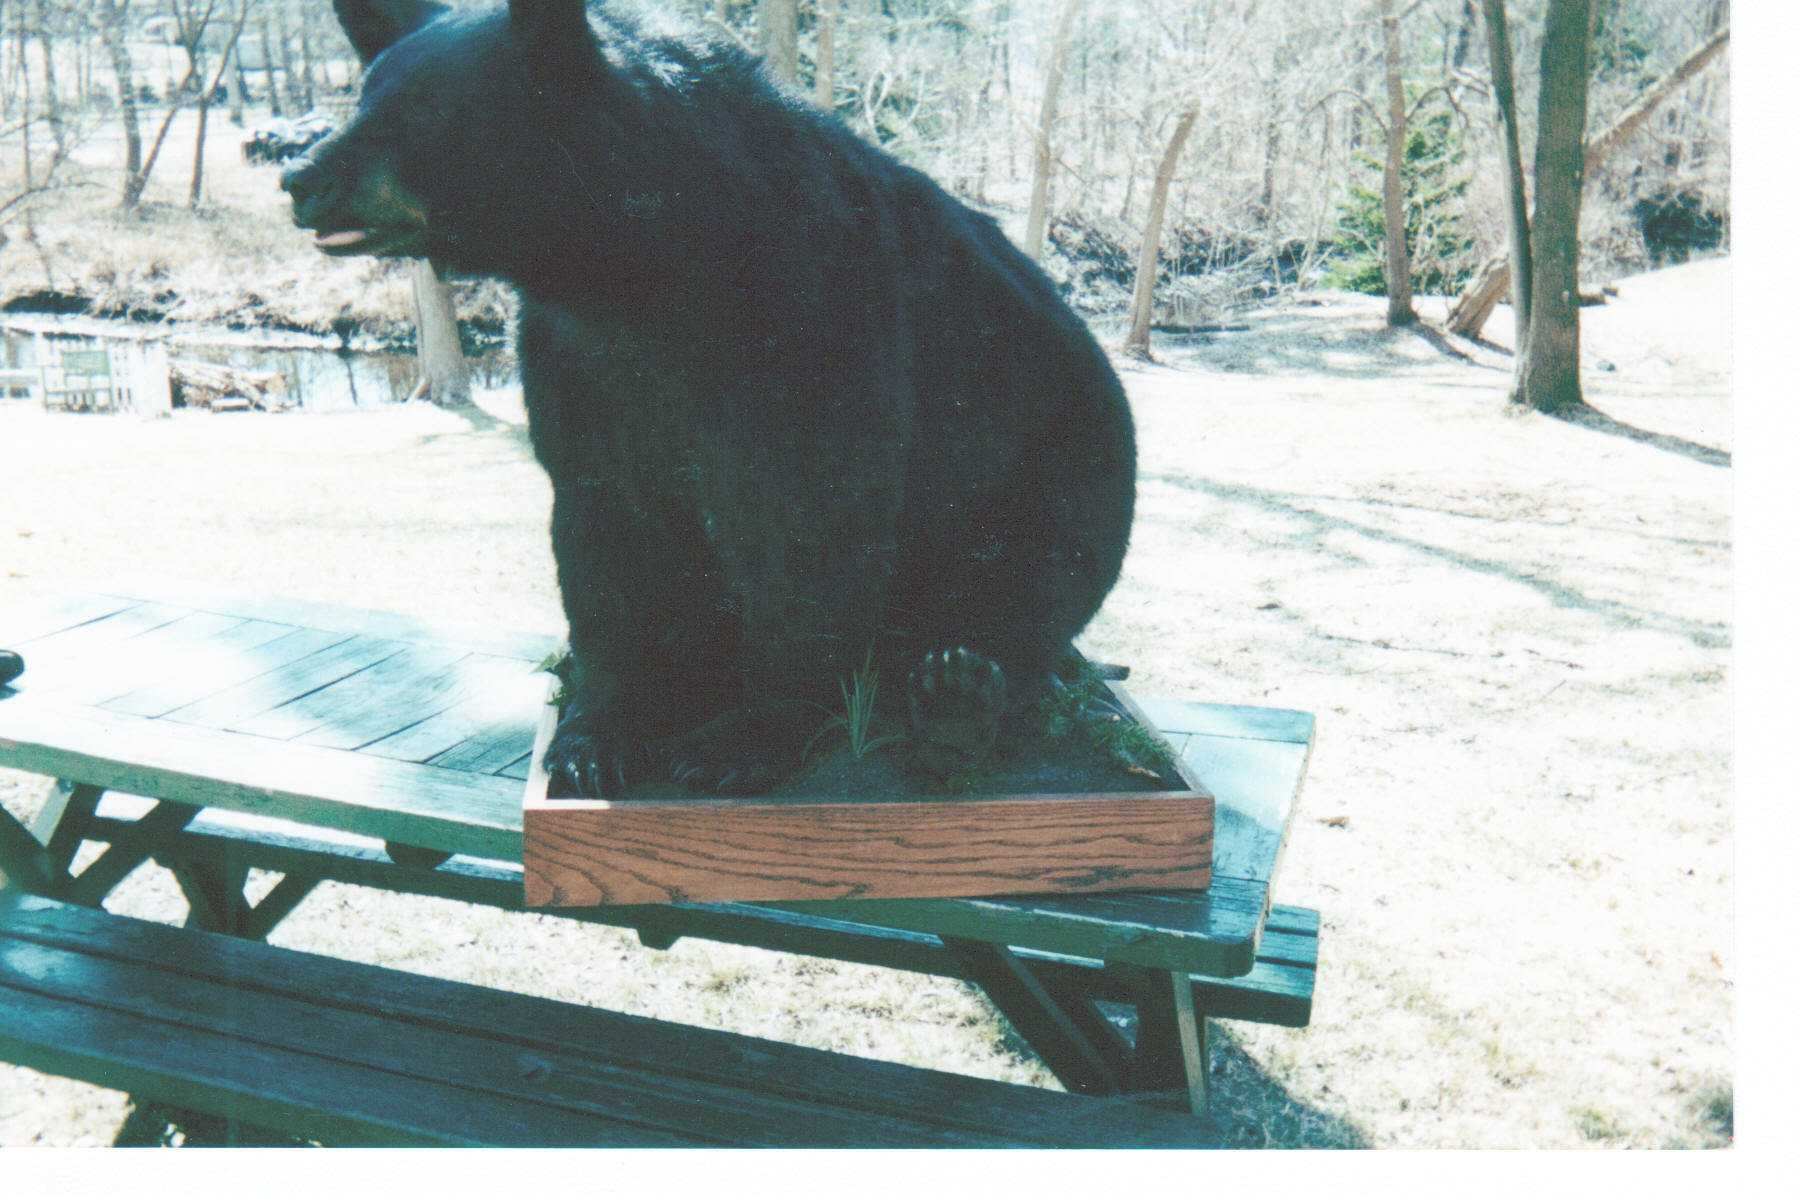bear: (274, 141, 402, 269), (332, 1, 461, 127), (488, 1, 616, 127)
